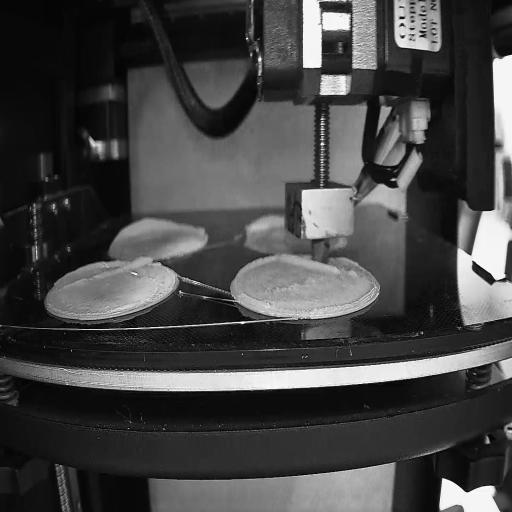over_extrusion: (237, 254, 360, 282), (64, 252, 153, 290), (111, 215, 207, 245), (242, 212, 286, 240), (238, 290, 271, 309)
